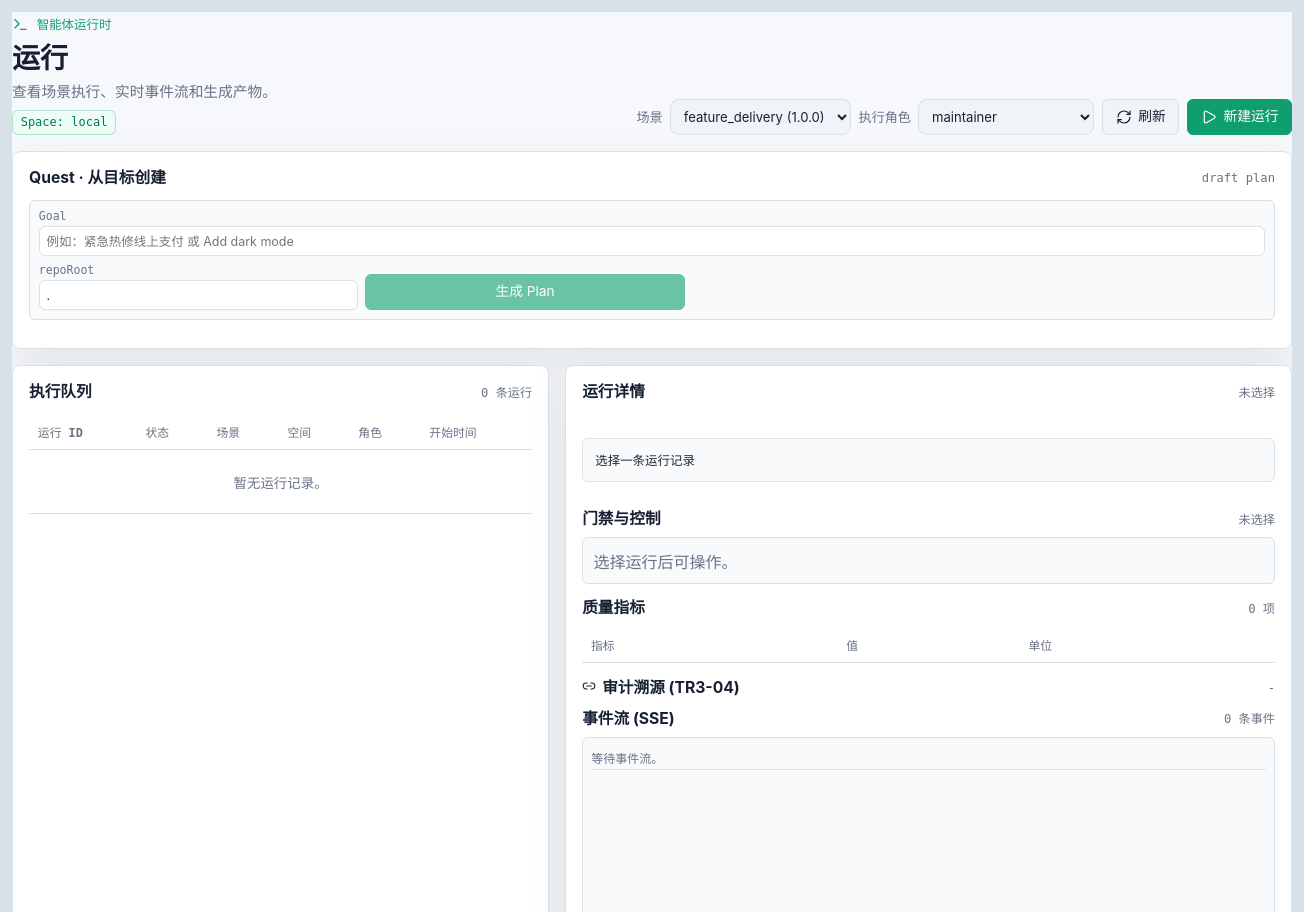
Test: RunsPage › projects AGENT_COMPONENT_BIND_INVALID on create failure (P20)
The width and height of the screenshot is (1304, 912).
Click the button with test id "runs-create" at (1240, 117), box [1187, 99, 1292, 135]
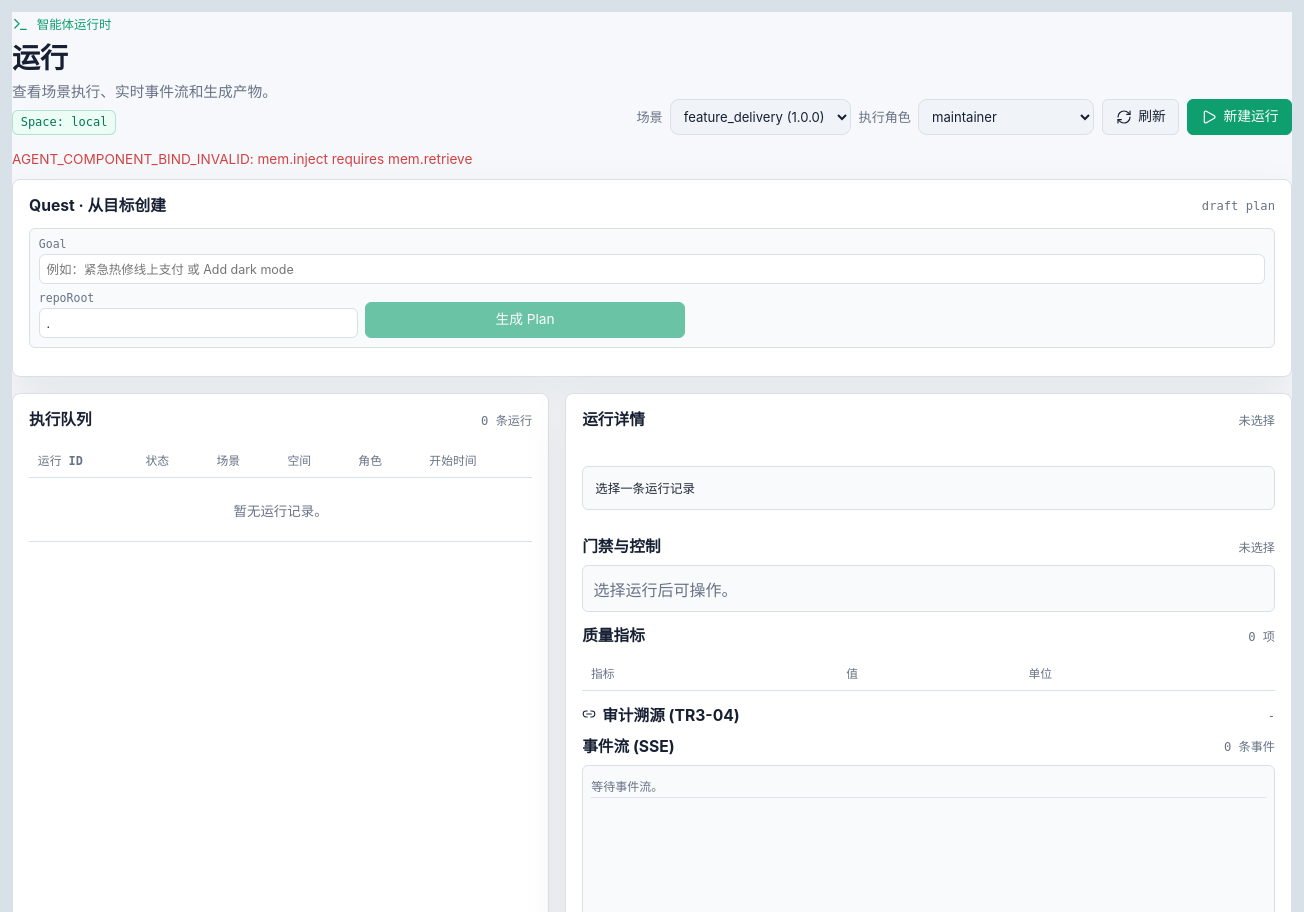
expect the text "AGENT_COMPONENT_BIND_INVALID: mem.inject requires mem.retrieve" is shown: met, box [12, 151, 472, 167]
